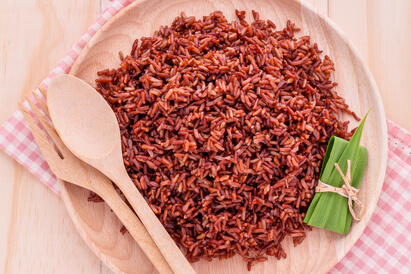Nasi Merah: (63, 33, 351, 252)
